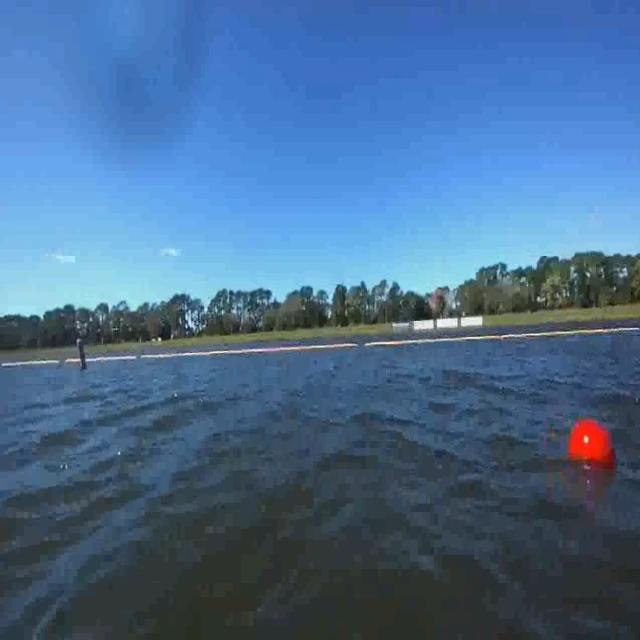red-buoy: (568, 422, 611, 464)
